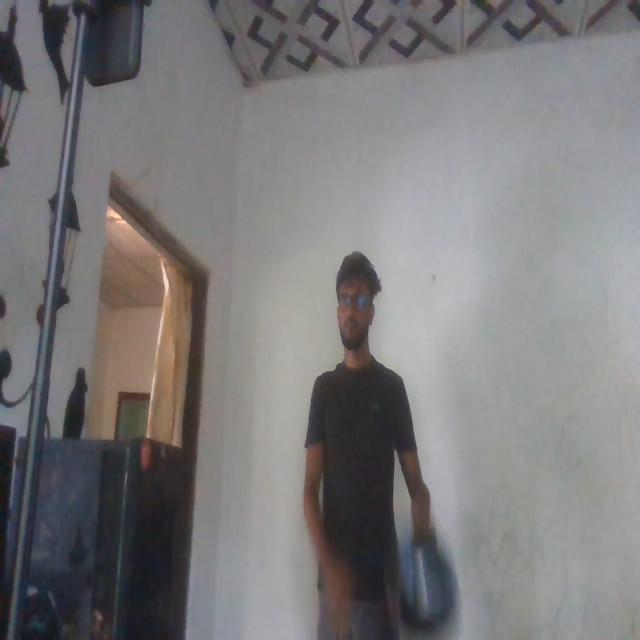Person: (304, 253, 432, 640)
